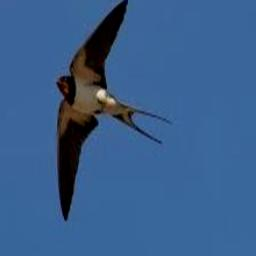Swallow: (54, 0, 171, 222)
